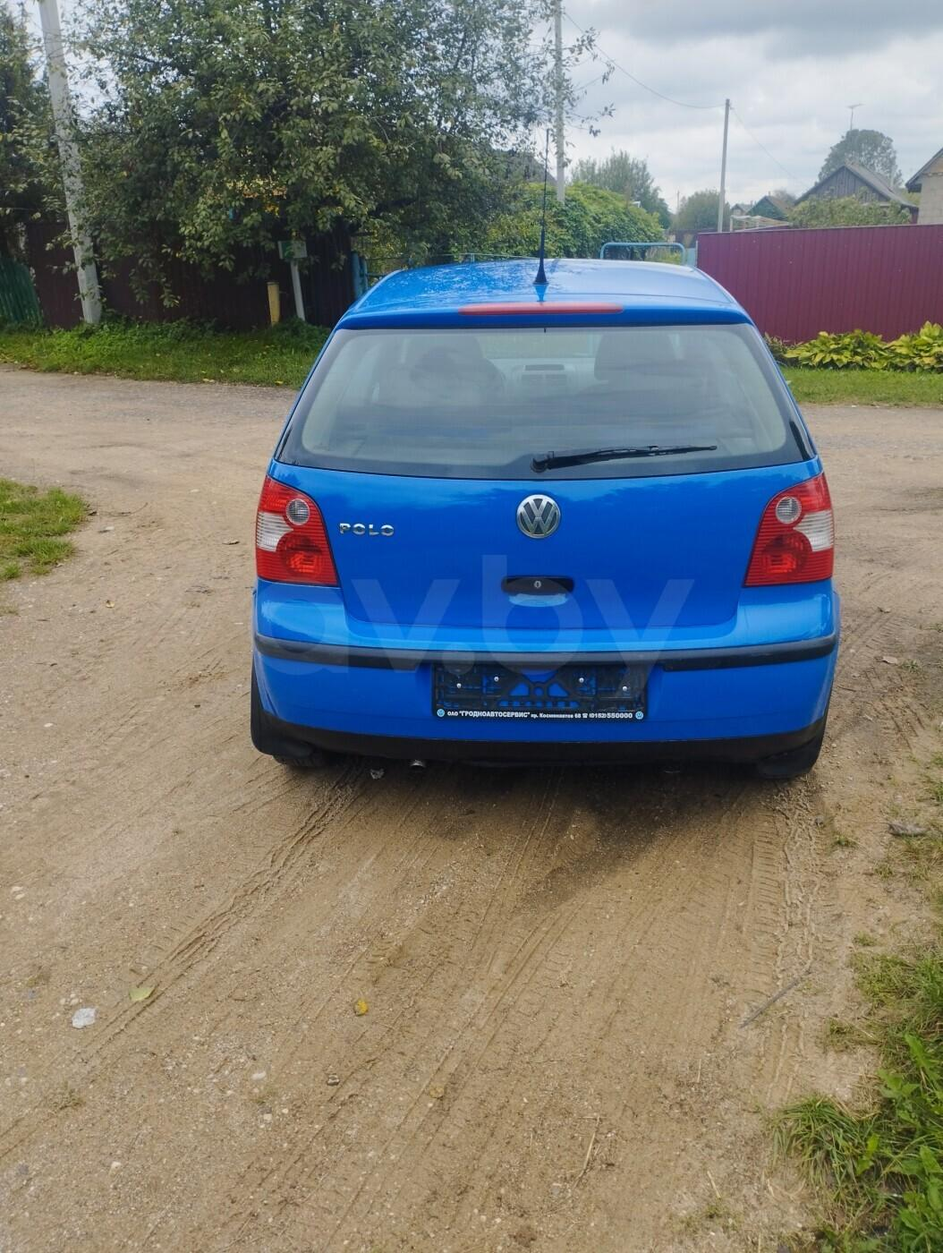Polo_2001-2005: (235, 253, 869, 827)
